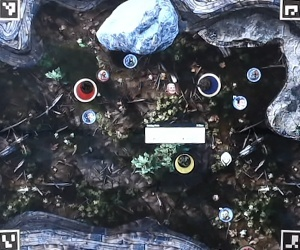blue: (196, 74, 219, 97)
lime_green_violet: (175, 150, 198, 173)
red: (73, 79, 96, 102)
